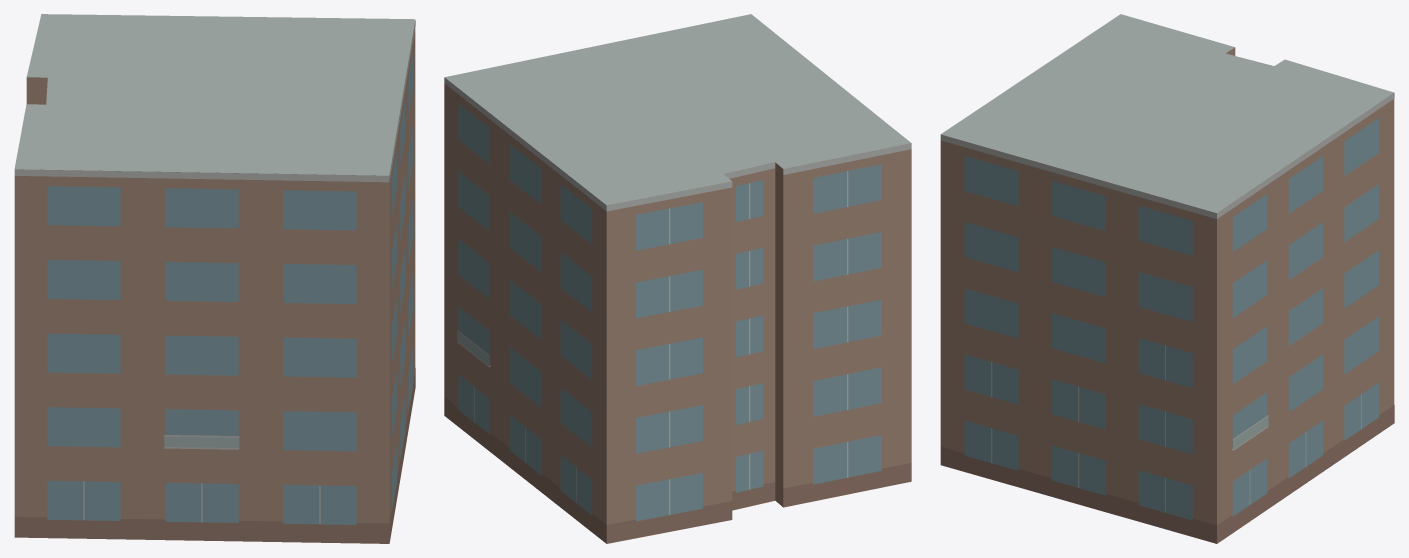
Rendered from survey-upis-32780090.glb.
The picture shows the model from 3 angles, left to right: view 1: azimuth 30°, elevation 25°; view 2: azimuth 150°, elevation 25°; view 3: azimuth 270°, elevation 25°; orthographic projection. The views are drawn at different scales.
Parts seen in each view (by area): view 1: survey-upis-32780090.tmp; view 2: survey-upis-32780090.tmp; view 3: survey-upis-32780090.tmp.
Part boxes in pixels (x1,y1,x2,y2): survey-upis-32780090.tmp: (14,14,415,543); survey-upis-32780090.tmp: (444,14,911,543); survey-upis-32780090.tmp: (940,14,1394,543).
Size of the model in its own units: 17.59 by 13.61 by 16.94.
